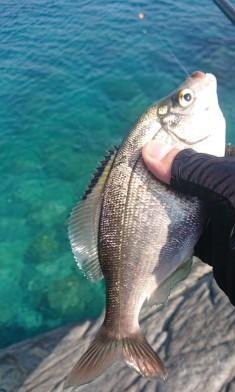fish: (63, 73, 226, 391)
